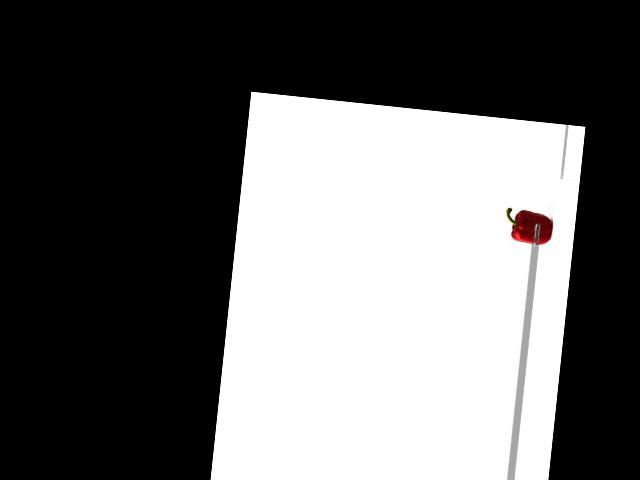bell_pepper: (500, 203, 553, 248)
